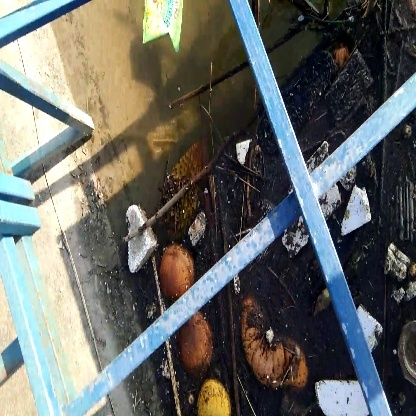plastic-garbage: (114, 201, 159, 272)
